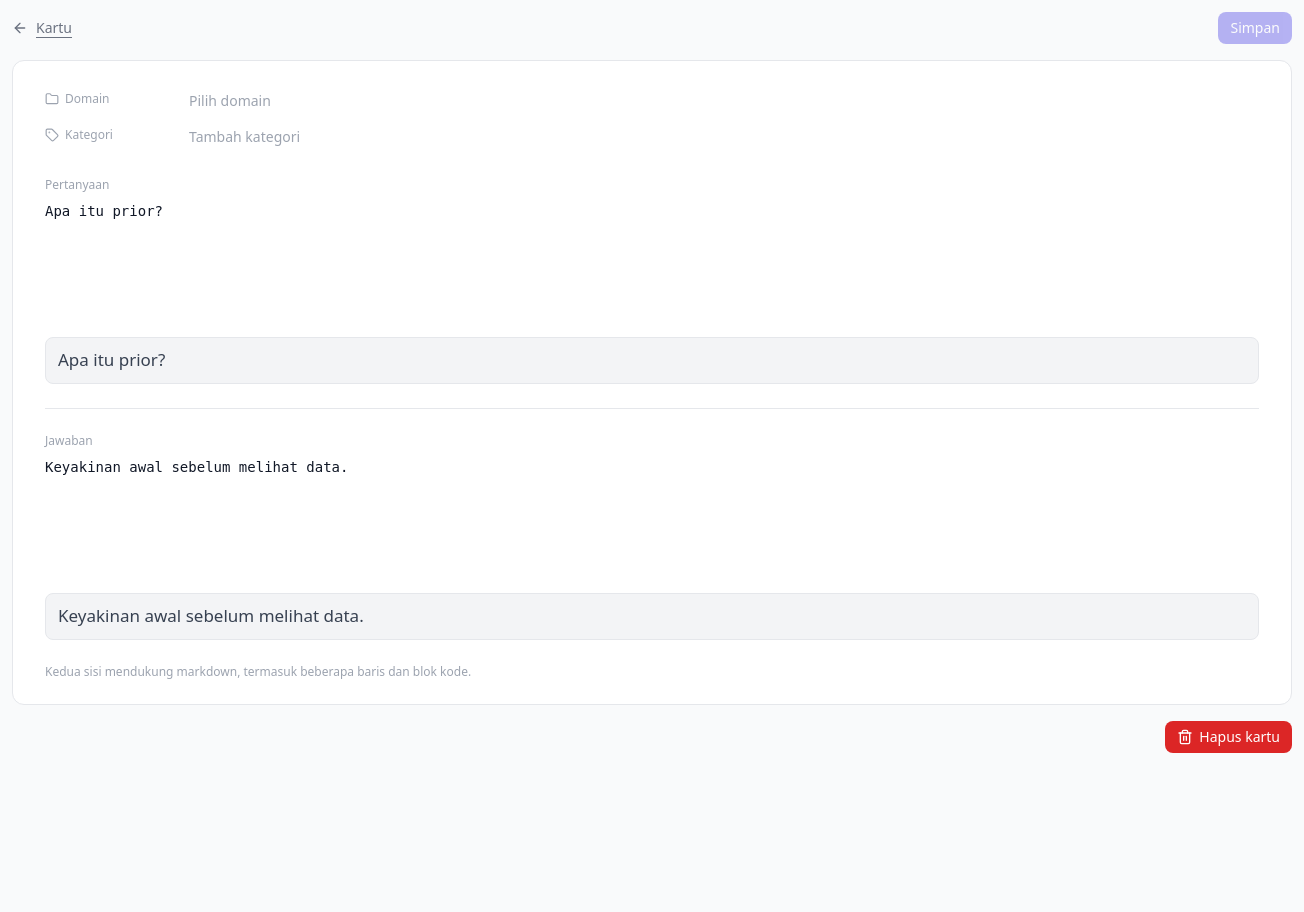
Test: leaving an existing card mid-edit › says so on screen while there is something unsaved
Check: the text "Belum tersimpan" is not shown
Type "Apa itu posterior?" into the text box with placeholder "Apa itu prior?".
click(652, 265); type("Apa itu posterior?")  # box [45, 201, 1259, 329]
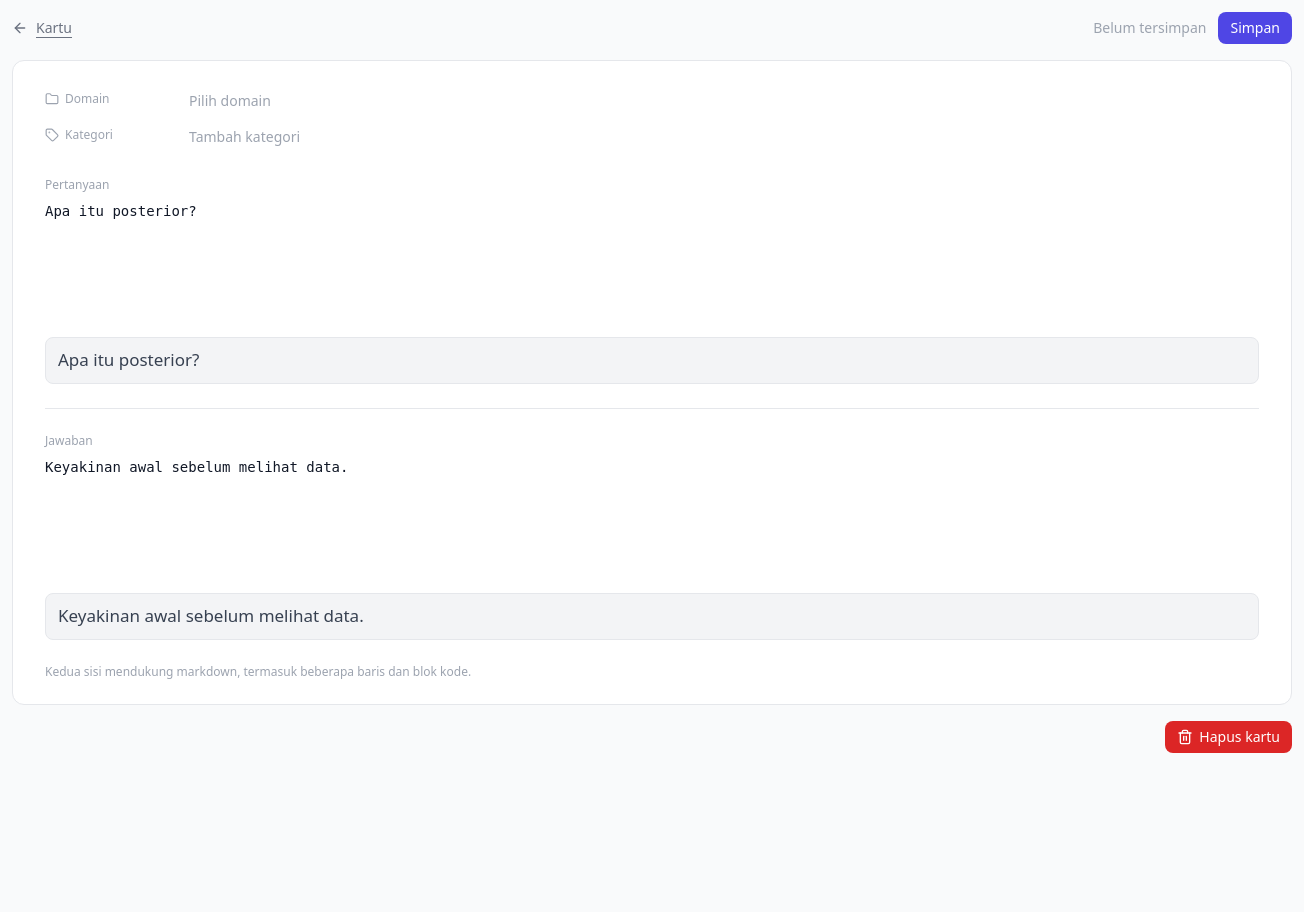
Check: the text "Belum tersimpan" is shown, box [1093, 18, 1206, 38]
Click the button "Simpan".
click(1255, 28)  # box [1218, 12, 1292, 44]
Wait 10 ms
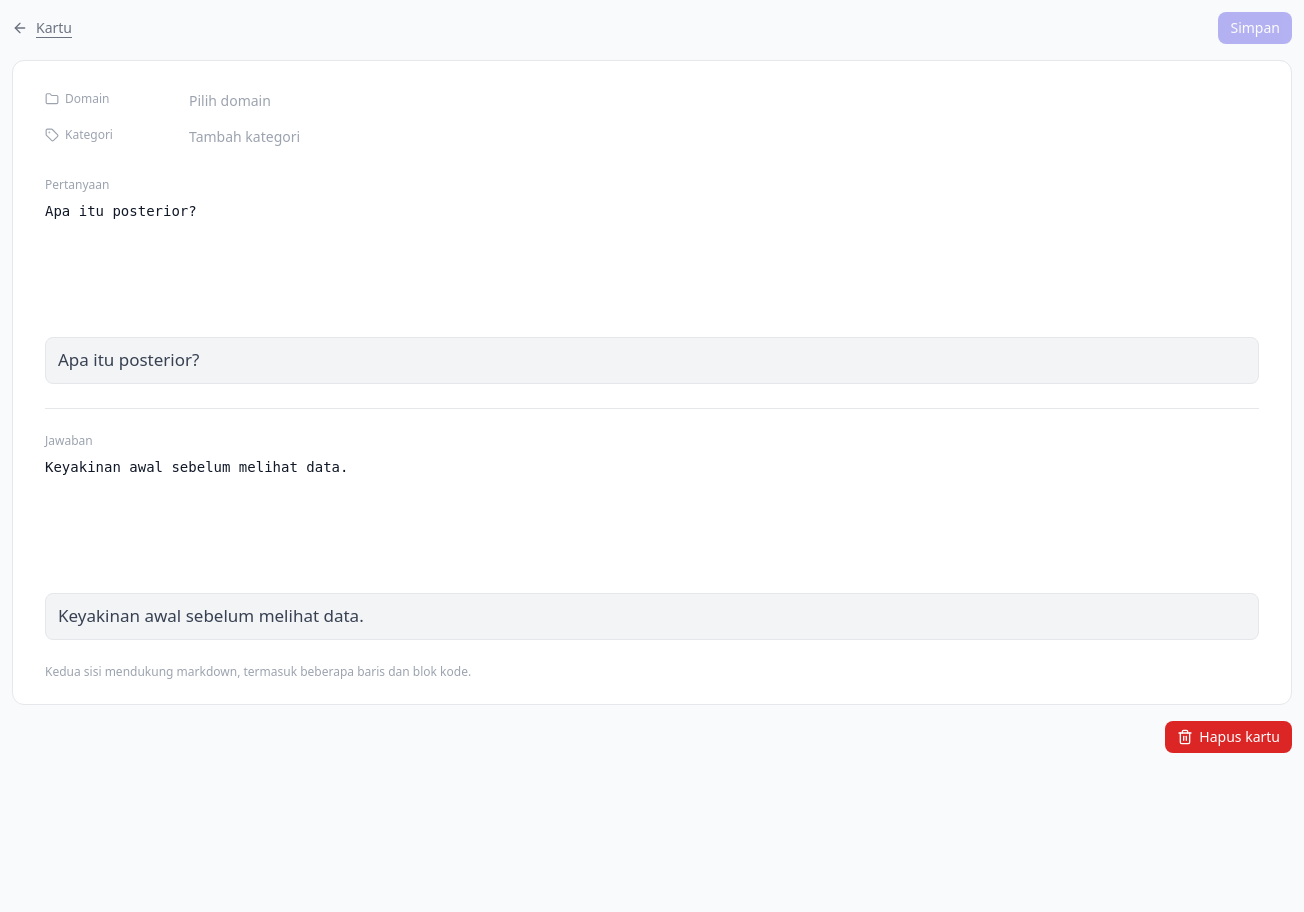
Check: the text "Belum tersimpan" is gone
